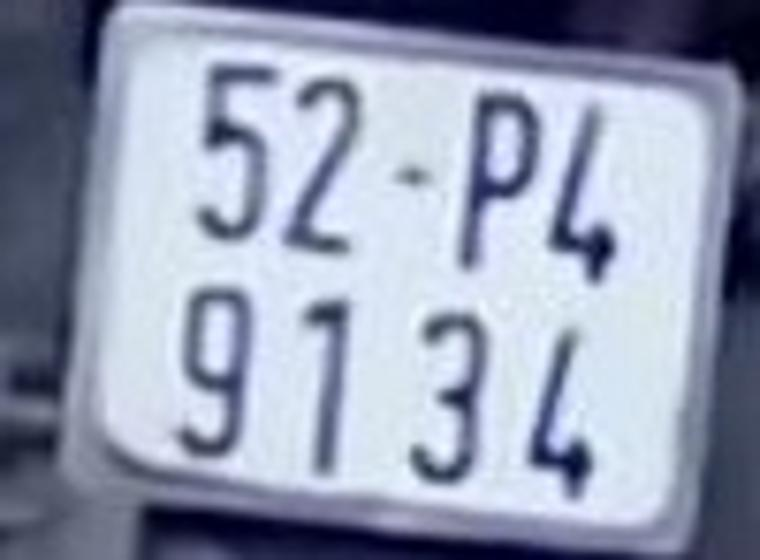-: (388, 163, 433, 193)
1: (306, 280, 364, 497)
2: (290, 69, 366, 267)
3: (398, 309, 491, 489)
4: (548, 94, 630, 283), (521, 327, 606, 505)
5: (192, 51, 285, 251)
9: (179, 282, 261, 473)
P: (457, 85, 551, 277)
